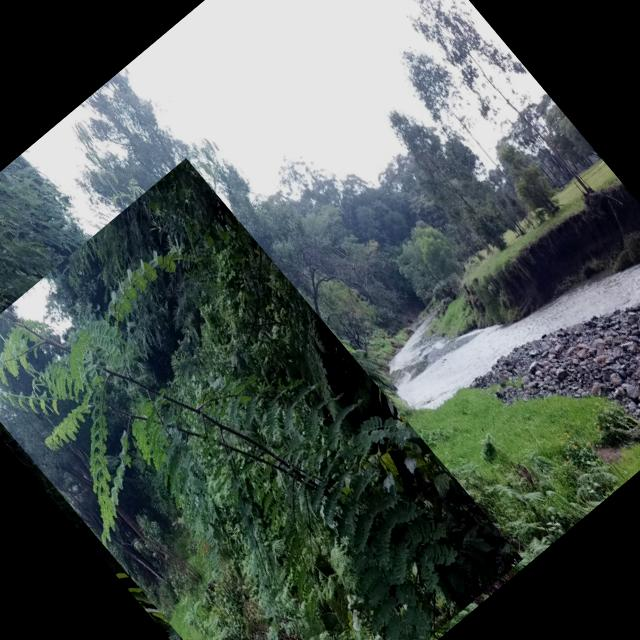Mysore-Thorn-Weed: (0, 157, 523, 640)
